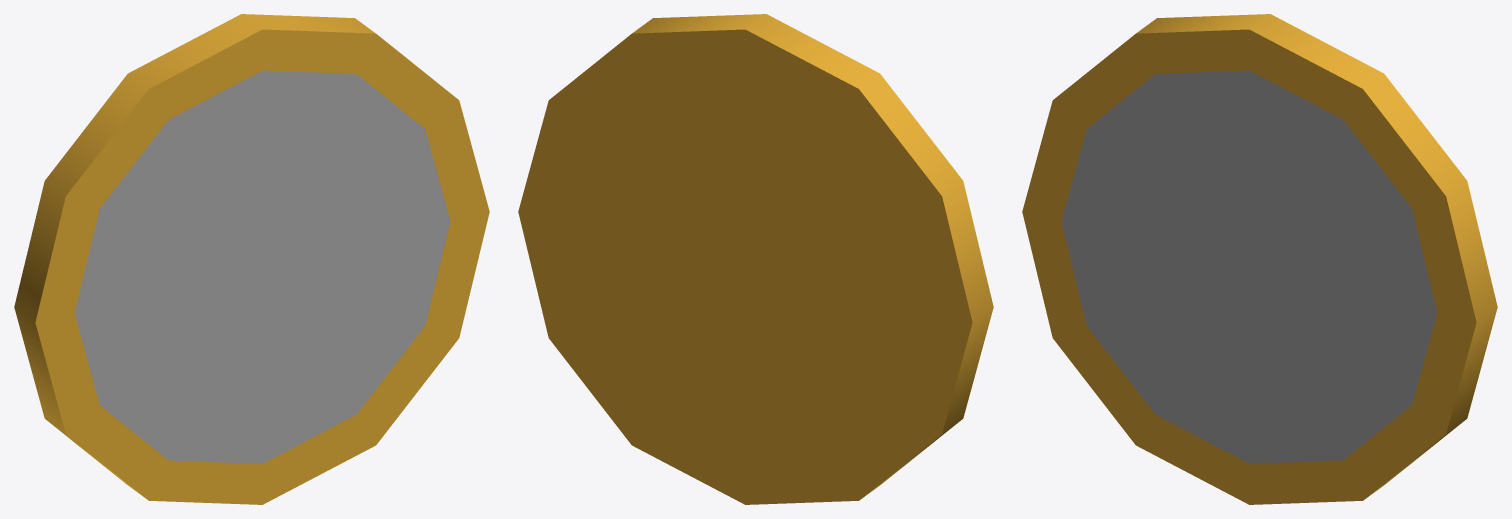
File: clock.FBX
3 renders of one model, left to right at view 1: azimuth 30°, elevation 25°; view 2: azimuth 150°, elevation 25°; view 3: azimuth 330°, elevation 25°, orthographic.
Visible parts, largest first — view 1: clock; view 2: clock; view 3: clock.
Boxes of the visible parts, x1,y1,x2,y2 form: clock: (14,14,489,504); clock: (518,14,993,504); clock: (1022,14,1497,504).
Size of the model in its own units: 6.3 by 6.3 by 0.5083.
